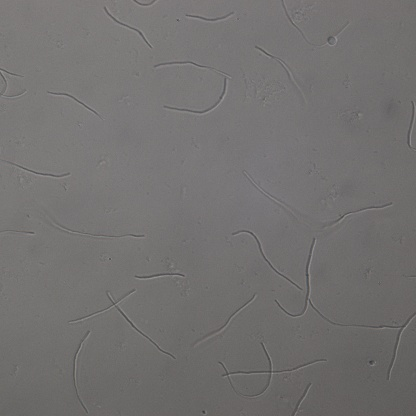Sensitive: (274, 239, 401, 329), (68, 291, 175, 358), (219, 343, 326, 397), (154, 57, 231, 115), (36, 203, 144, 241), (233, 229, 301, 289), (281, 1, 349, 47), (196, 294, 256, 344), (243, 172, 299, 220), (257, 47, 305, 102), (387, 314, 416, 378), (105, 9, 151, 47), (325, 203, 391, 225), (1, 158, 70, 179), (48, 91, 99, 116), (136, 269, 186, 285), (186, 11, 236, 22)
